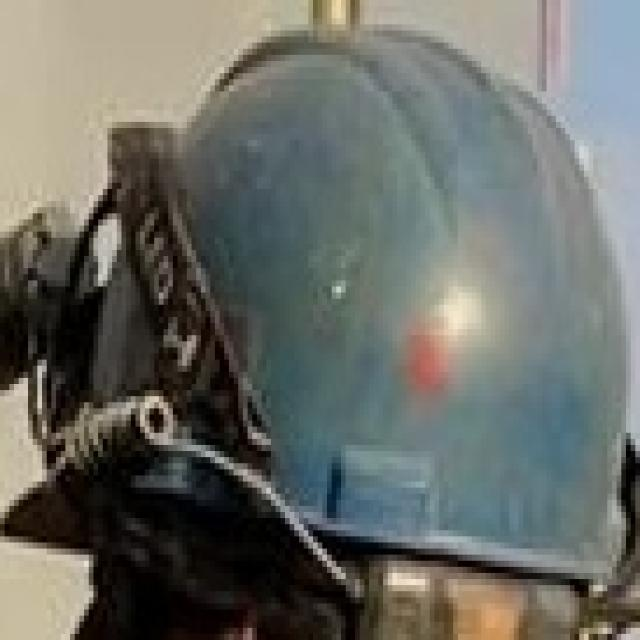helmet_blue: (2, 3, 638, 637)
